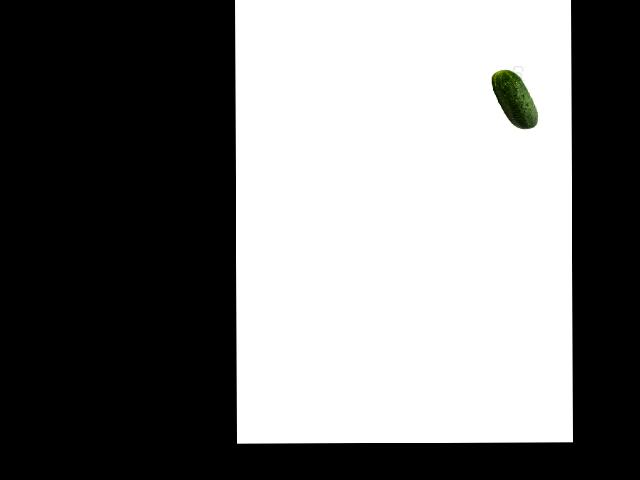cucumber: (491, 70, 538, 129)
